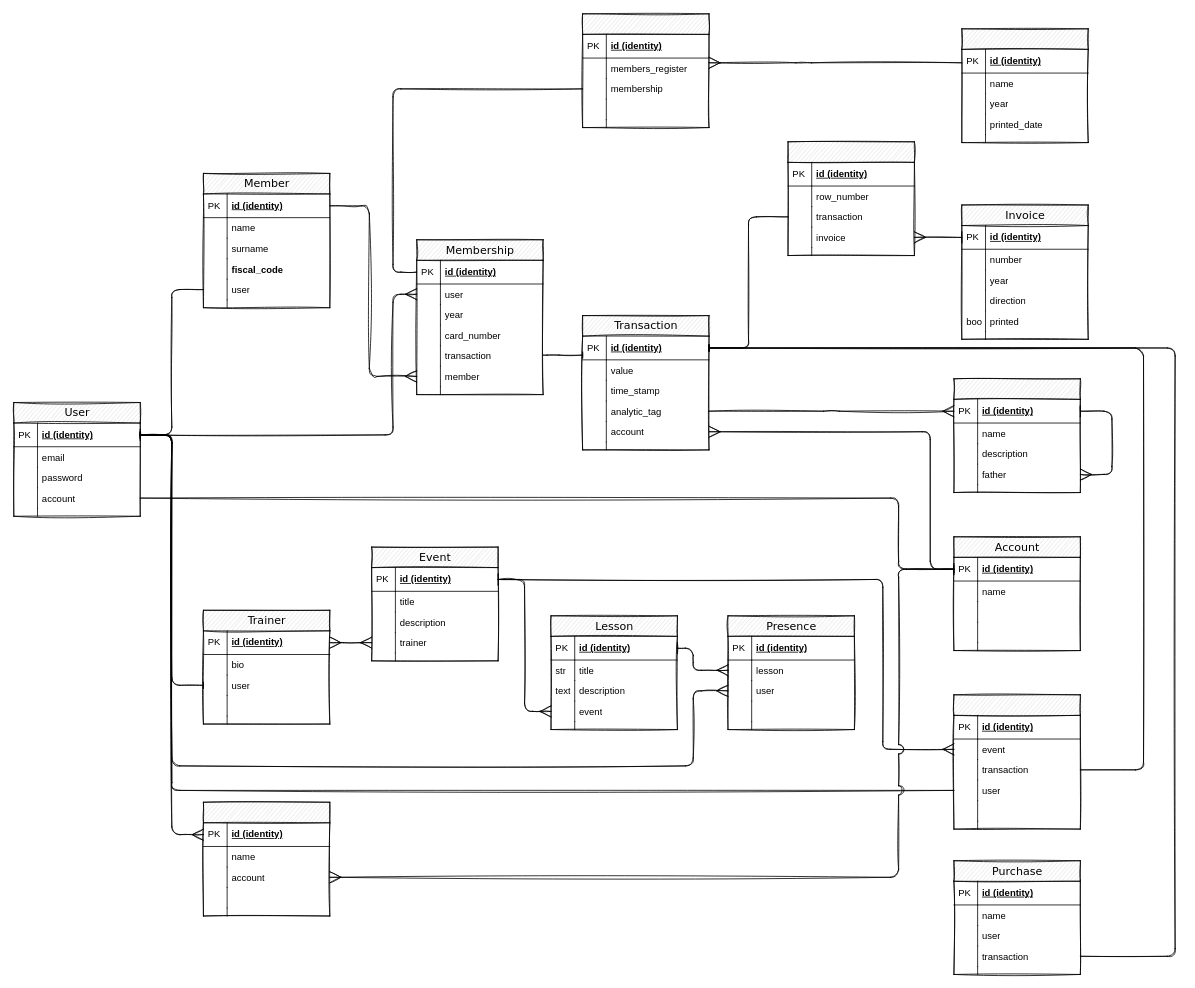
This 1195x988 diagram has some shape labels left out. Each missing label, with the box of its shape:
AnalyticTag: (953, 378, 1080, 493)
Company: (203, 801, 330, 916)
InvoiceRow: (787, 141, 914, 256)
MembersRegister: (961, 28, 1088, 143)
Partecipation: (953, 694, 1080, 829)
RegisterEntry: (582, 13, 709, 128)
